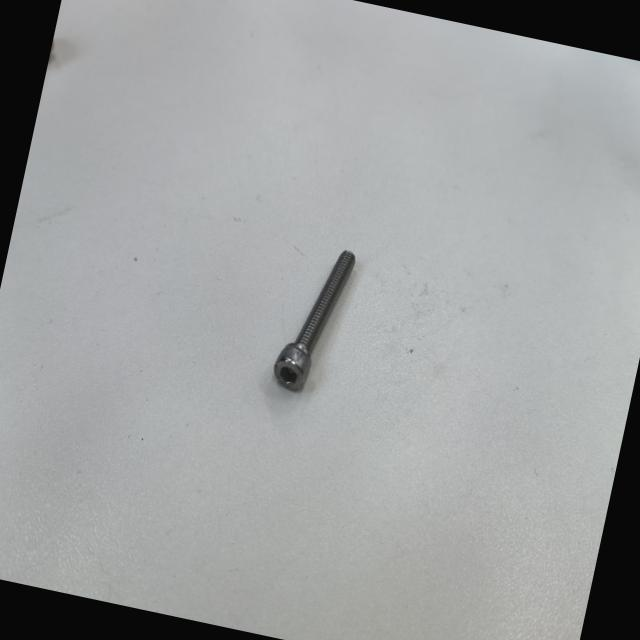screws: (265, 243, 366, 399)
